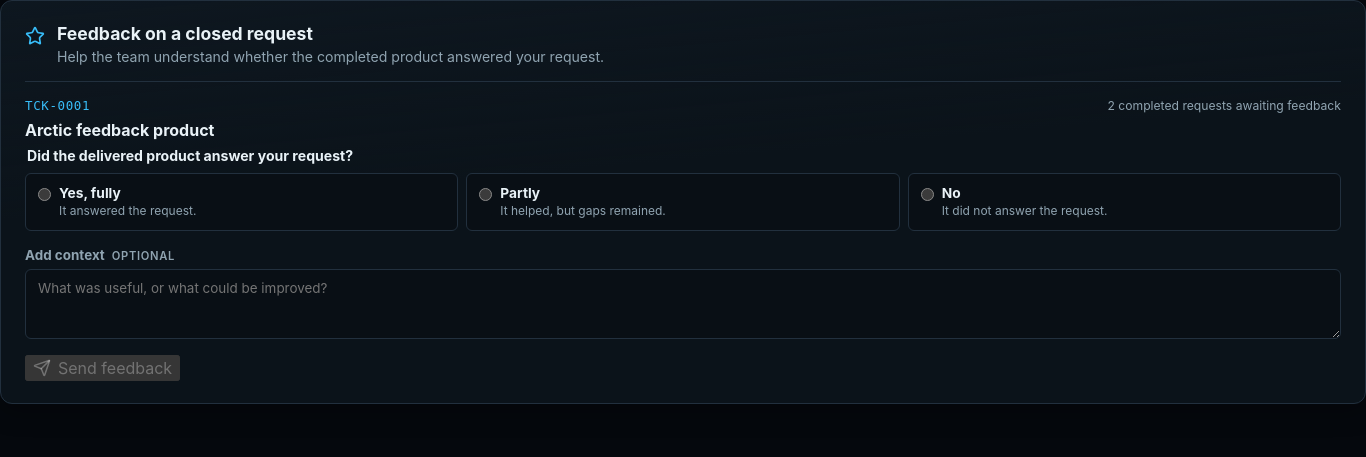
Test: presents pending feedback one closed request at a time
Expected: the text "Arctic feedback product" is shown, x1=25 y1=120 x2=214 y2=140
Expected: the text "Maritime pattern report" is not shown
Click the radio button labelled "Yes, fully It answered the request.": click(44, 194) x1=38 y1=188 x2=51 y2=201
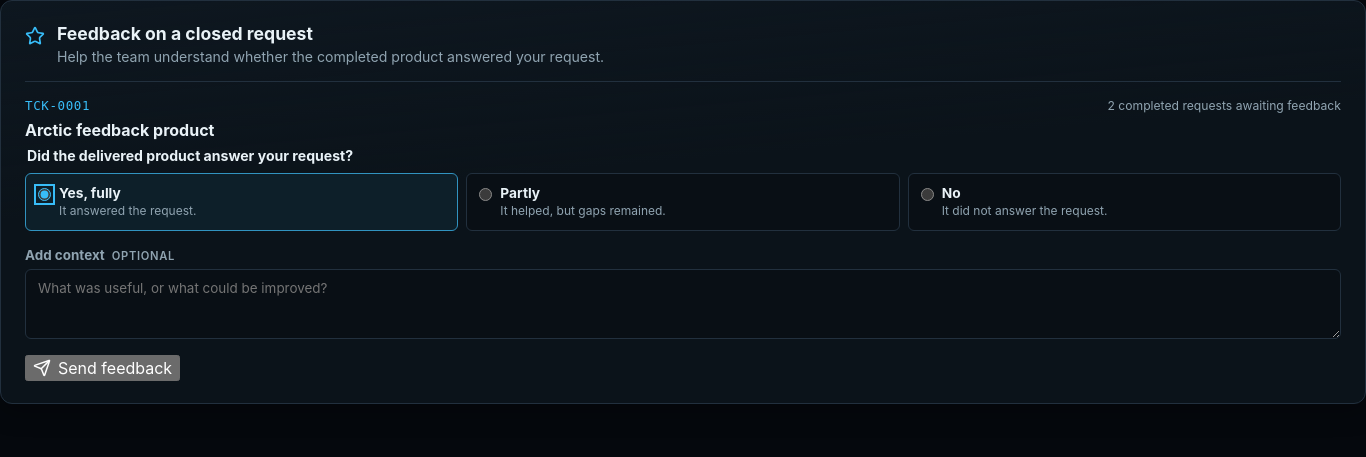
Click the button "Send feedback": click(103, 368) x1=25 y1=355 x2=180 y2=381
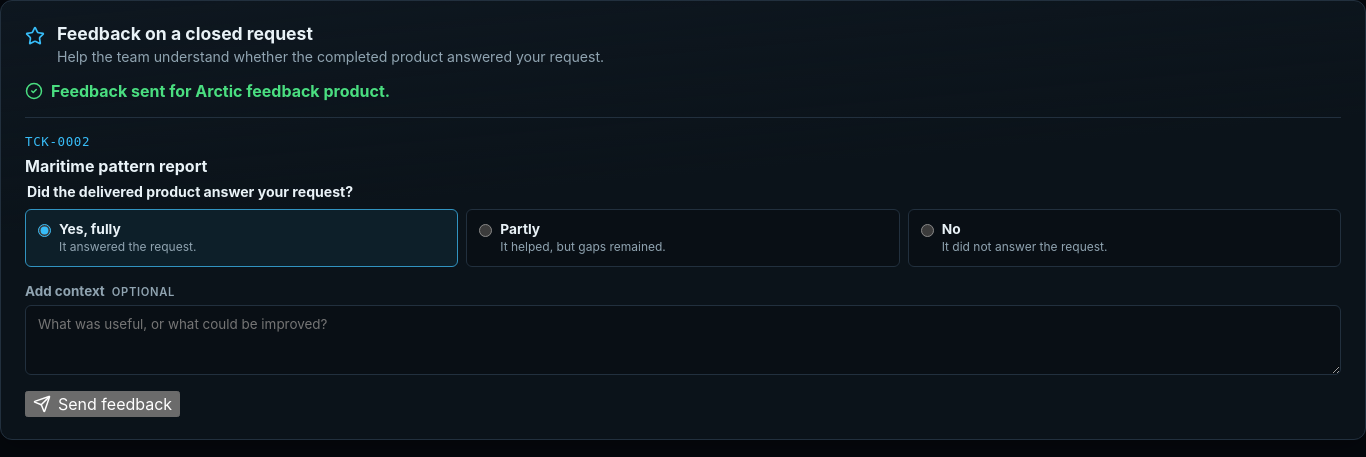
Expected: the text "Maritime pattern report" is shown, x1=25 y1=156 x2=207 y2=176
